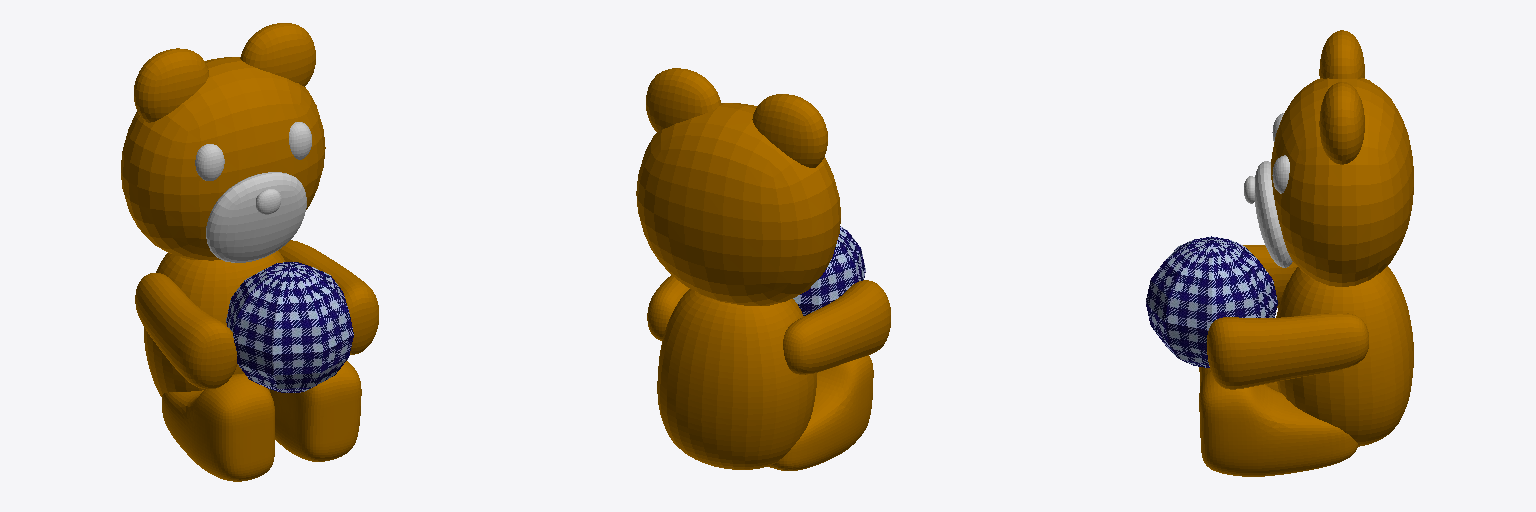
The picture shows the model from 3 angles: view 1: azimuth 30°, elevation 25°; view 2: azimuth 150°, elevation 25°; view 3: azimuth 270°, elevation 25°; orthographic projection.
Visible parts, largest first — view 1: �F��, �F�r, �{�[��, �F�j, �F�@; view 2: �F��, �F�r, �{�[��; view 3: �F��, �F�r, �{�[��, �F�j.
Boxes of the visible parts, x1=… form: �F��: x1=121, y1=23, x2=378, y2=396; �F�r: x1=162, y1=361, x2=361, y2=481; �{�[��: x1=226, y1=262, x2=353, y2=392; �F�j: x1=206, y1=172, x2=306, y2=262; �F�@: x1=256, y1=189, x2=280, y2=214; �F��: x1=636, y1=68, x2=890, y2=469; �F�r: x1=768, y1=355, x2=873, y2=470; �{�[��: x1=793, y1=226, x2=865, y2=315; �F��: x1=1207, y1=30, x2=1413, y2=446; �F�r: x1=1199, y1=367, x2=1357, y2=476; �{�[��: x1=1146, y1=236, x2=1277, y2=367; �F�j: x1=1255, y1=161, x2=1292, y2=267.
Size of the model in its own units: 49.64 by 94.94 by 59.14.
3 materials, 1 textured.